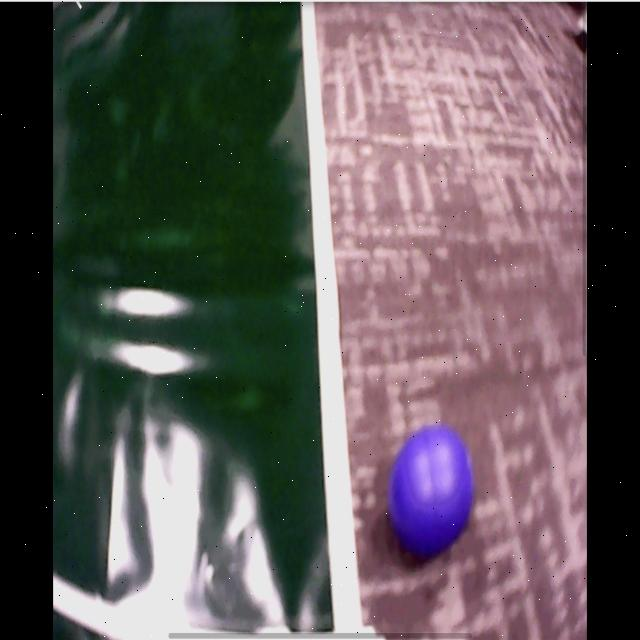ball: (388, 427, 472, 552)
